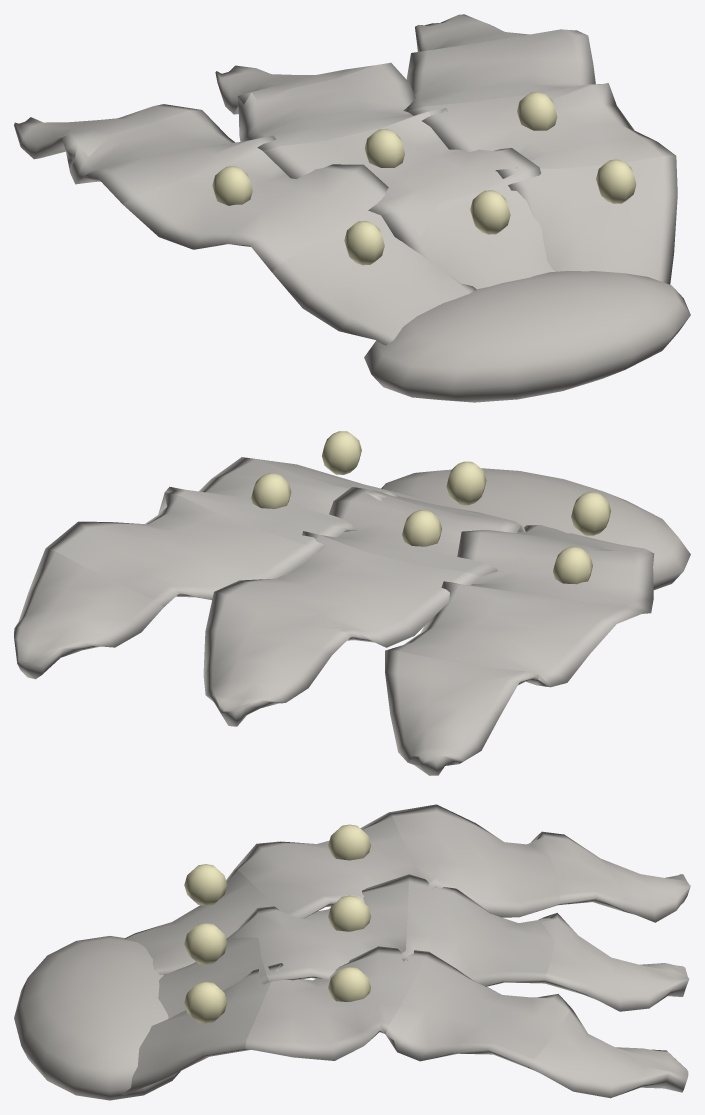
The model's file is part_cloak_fronds.glb.
3 renders of one model, top to bottom at view 1: azimuth 30°, elevation 25°; view 2: azimuth 150°, elevation 25°; view 3: azimuth 270°, elevation 25°, orthographic. The views are drawn at different scales.
Parts seen in each view (by area): view 1: seg_1.005_painted_mesh, seg_0.005_painted_mesh, seg_2.005_painted_mesh, part_cloak_fronds_painted_mesh, seg_3.001_painted_mesh.001; view 2: seg_2.005_painted_mesh, seg_3.001_painted_mesh.001, seg_1.005_painted_mesh, part_cloak_fronds_painted_mesh, seg_0.005_painted_mesh; view 3: seg_2.005_painted_mesh, seg_1.005_painted_mesh, seg_3.001_painted_mesh.001, part_cloak_fronds_painted_mesh, seg_0.005_painted_mesh.
Part boxes in pixels (left/top/right/bottom): seg_1.005_painted_mesh: left=122, top=83, right=675, bottom=271; seg_0.005_painted_mesh: left=272, top=155, right=677, bottom=345; seg_2.005_painted_mesh: left=65, top=29, right=595, bottom=205; part_cloak_fronds_painted_mesh: left=364, top=271, right=690, bottom=402; seg_3.001_painted_mesh.001: left=14, top=14, right=529, bottom=162; seg_2.005_painted_mesh: left=46, top=473, right=640, bottom=687; seg_3.001_painted_mesh.001: left=14, top=548, right=539, bottom=775; seg_1.005_painted_mesh: left=165, top=431, right=653, bottom=613; part_cloak_fronds_painted_mesh: left=381, top=468, right=690, bottom=589; seg_0.005_painted_mesh: left=247, top=457, right=654, bottom=565; seg_2.005_painted_mesh: left=328, top=804, right=571, bottom=1069; seg_1.005_painted_mesh: left=184, top=812, right=428, bottom=1060; seg_3.001_painted_mesh.001: left=529, top=831, right=690, bottom=1098; part_cloak_fronds_painted_mesh: left=14, top=936, right=180, bottom=1100; seg_0.005_painted_mesh: left=122, top=869, right=280, bottom=1095.
Bounding box in the file's own units: 1.22 × 0.35 × 1.41.
